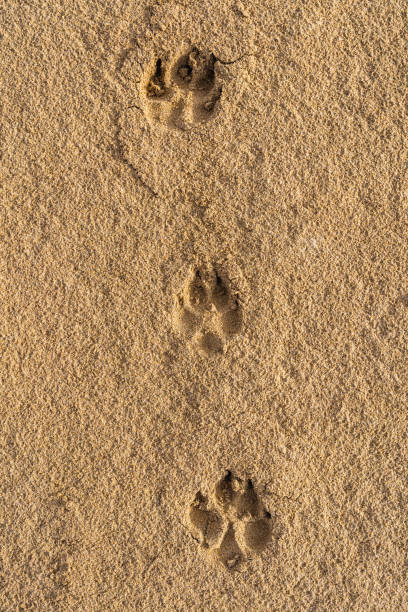animal_foot_print: (188, 470, 272, 568), (141, 46, 221, 129), (173, 266, 242, 355)
